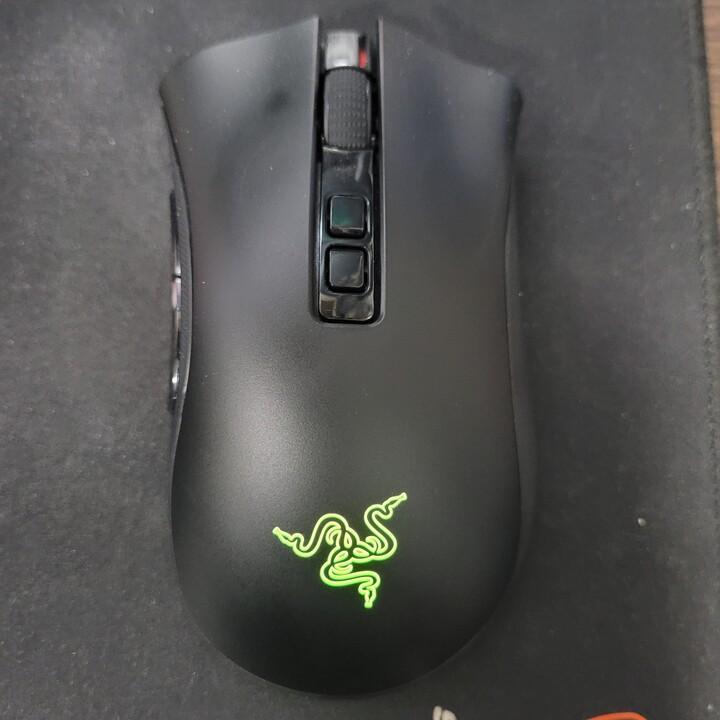mouse: (157, 13, 528, 696)
